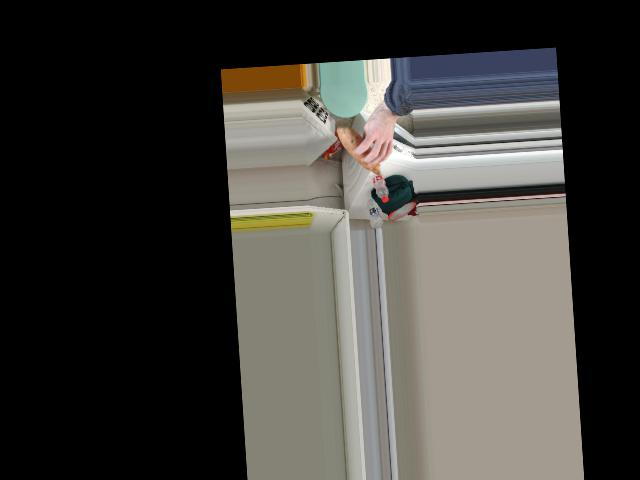sweet_potato: (338, 130, 391, 175)
